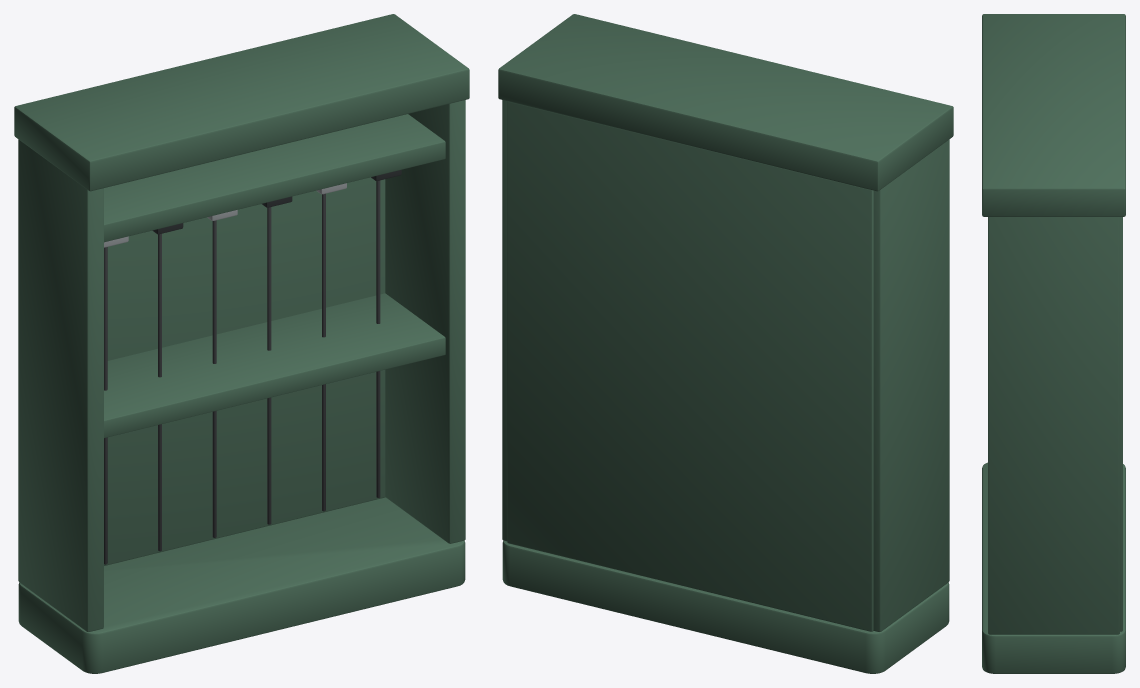
File: golf_club_storage_public.glb
3 renders of one model, left to right at view 1: azimuth 30°, elevation 25°; view 2: azimuth 150°, elevation 25°; view 3: azimuth 270°, elevation 25°, orthographic. The views are drawn at different scales.
Visible parts, largest first — view 1: ClubStorage_Back, ClubStorage_Top, ClubStorage_Plinth, ClubStorage_Side_-1, ClubStorage_Side_1, ClubStorage_Shelf_1, ClubStorage_Shelf_2, StoredClub_Shaft_4, StoredClub_Shaft_6, StoredClub_Shaft_3, StoredClub_Shaft_5, StoredClub_Shaft_1 (+1 smaller); view 2: ClubStorage_Back, ClubStorage_Top, ClubStorage_Side_-1, ClubStorage_Plinth, ClubStorage_Side_1; view 3: ClubStorage_Side_1, ClubStorage_Top, ClubStorage_Plinth, ClubStorage_Back.
Part boxes in pixels (box(x1,y1,x2,y2)): ClubStorage_Back: box(104, 177, 385, 565); ClubStorage_Top: box(14, 14, 469, 191); ClubStorage_Plinth: box(18, 497, 465, 673); ClubStorage_Side_-1: box(18, 139, 103, 632); ClubStorage_Side_1: box(385, 100, 465, 543); ClubStorage_Shelf_1: box(104, 293, 445, 437); ClubStorage_Shelf_2: box(104, 114, 445, 242); StoredClub_Shaft_4: box(267, 207, 271, 524); StoredClub_Shaft_6: box(376, 180, 380, 497); StoredClub_Shaft_3: box(212, 220, 216, 537); StoredClub_Shaft_5: box(322, 193, 325, 511); StoredClub_Shaft_1: box(104, 247, 107, 564); ClubStorage_Back: box(507, 101, 873, 631); ClubStorage_Top: box(498, 14, 953, 191); ClubStorage_Side_-1: box(873, 139, 949, 632); ClubStorage_Plinth: box(502, 540, 949, 673); ClubStorage_Side_1: box(502, 100, 507, 541); ClubStorage_Side_1: box(988, 217, 1119, 634); ClubStorage_Top: box(982, 14, 1125, 216); ClubStorage_Plinth: box(982, 462, 1125, 673); ClubStorage_Back: box(1120, 217, 1122, 631).
Size of what is drawn, in the model's own units: 1.5 by 1.94 by 0.52.
